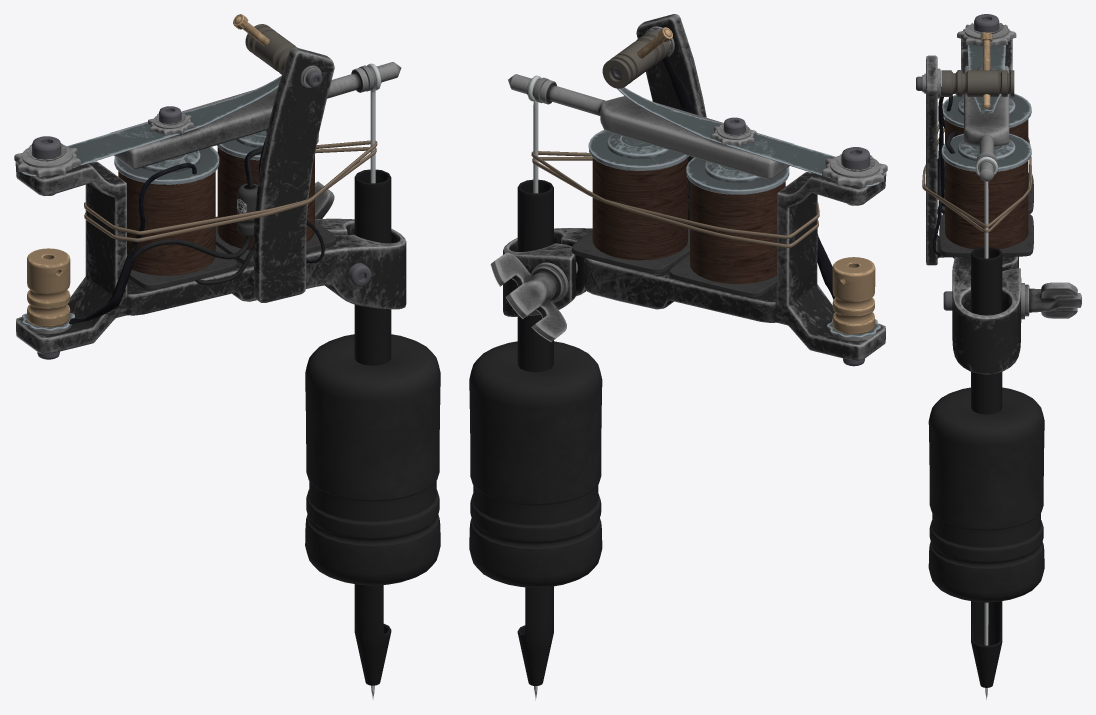
Rendered from tattoo-machine.glb.
The picture shows the model from 3 angles, left to right: view 1: azimuth 30°, elevation 25°; view 2: azimuth 150°, elevation 25°; view 3: azimuth 270°, elevation 25°; orthographic projection. The views are drawn at different scales.
Visible parts, largest first — view 1: G15_grip_mesh, G01_frame_mesh, G02_coil_rear_mesh, G06_armature_bar_mesh, G14_tube_stem_mesh, G03_coil_front_mesh, G12_binding_post_mesh, G07_spring_mesh, G05_wiring_mesh, G18_rubber_bands_mesh, G16_tip_mesh, G09_rear_saddle_hw_mesh (+5 smaller); view 2: G15_grip_mesh, G01_frame_mesh, G03_coil_front_mesh, G02_coil_rear_mesh, G06_armature_bar_mesh, G14_tube_stem_mesh, G13_vise_screw_mesh, G12_binding_post_mesh, G07_spring_mesh, G18_rubber_bands_mesh, G16_tip_mesh, G10_contact_barrel_mesh (+4 smaller); view 3: G15_grip_mesh, G01_frame_mesh, G03_coil_front_mesh, G14_tube_stem_mesh, G06_armature_bar_mesh, G10_contact_barrel_mesh, G16_tip_mesh, G13_vise_screw_mesh, G02_coil_rear_mesh, G09_rear_saddle_hw_mesh, G05_wiring_mesh, G07_spring_mesh (+3 smaller).
Boxes of the visible parts, left/top/right/bottom form: G15_grip_mesh: left=305, top=334, right=440, bottom=585; G01_frame_mesh: left=15, top=47, right=406, bottom=354; G02_coil_rear_mesh: left=114, top=147, right=236, bottom=289; G06_armature_bar_mesh: left=110, top=62, right=401, bottom=169; G14_tube_stem_mesh: left=354, top=169, right=391, bottom=365; G03_coil_front_mesh: left=215, top=130, right=336, bottom=265; G12_binding_post_mesh: left=22, top=248, right=74, bottom=359; G07_spring_mesh: left=21, top=75, right=281, bottom=176; G05_wiring_mesh: left=69, top=129, right=324, bottom=324; G18_rubber_bands_mesh: left=84, top=140, right=377, bottom=242; G16_tip_mesh: left=354, top=584, right=391, bottom=685; G09_rear_saddle_hw_mesh: left=14, top=136, right=81, bottom=195; G15_grip_mesh: left=469, top=341, right=602, bottom=587; G01_frame_mesh: left=503, top=14, right=886, bottom=360; G03_coil_front_mesh: left=571, top=130, right=689, bottom=273; G02_coil_rear_mesh: left=669, top=157, right=789, bottom=297; G06_armature_bar_mesh: left=508, top=74, right=793, bottom=179; G14_tube_stem_mesh: left=517, top=179, right=553, bottom=372; G13_vise_screw_mesh: left=490, top=253, right=577, bottom=341; G12_binding_post_mesh: left=827, top=257, right=880, bottom=366; G07_spring_mesh: left=617, top=87, right=883, bottom=186; G18_rubber_bands_mesh: left=531, top=151, right=819, bottom=248; G16_tip_mesh: left=517, top=586, right=553, bottom=685; G10_contact_barrel_mesh: left=602, top=26, right=674, bottom=88; G15_grip_mesh: left=928, top=387, right=1044, bottom=602; G01_frame_mesh: left=926, top=38, right=1021, bottom=374; G03_coil_front_mesh: left=939, top=133, right=1033, bottom=256; G14_tube_stem_mesh: left=971, top=246, right=1002, bottom=414; G06_armature_bar_mesh: left=964, top=65, right=1009, bottom=181; G10_contact_barrel_mesh: left=916, top=68, right=1014, bottom=98; G16_tip_mesh: left=971, top=601, right=1002, bottom=687; G13_vise_screw_mesh: left=943, top=282, right=1081, bottom=319; G02_coil_rear_mesh: left=941, top=93, right=1033, bottom=213; G09_rear_saddle_hw_mesh: left=957, top=14, right=1016, bottom=46; G05_wiring_mesh: left=933, top=87, right=956, bottom=254; G07_spring_mesh: left=967, top=45, right=1005, bottom=113.
Size of the model in its own units: 0.1384 by 0.2294 by 0.0562.
1 material, 1 textured.
